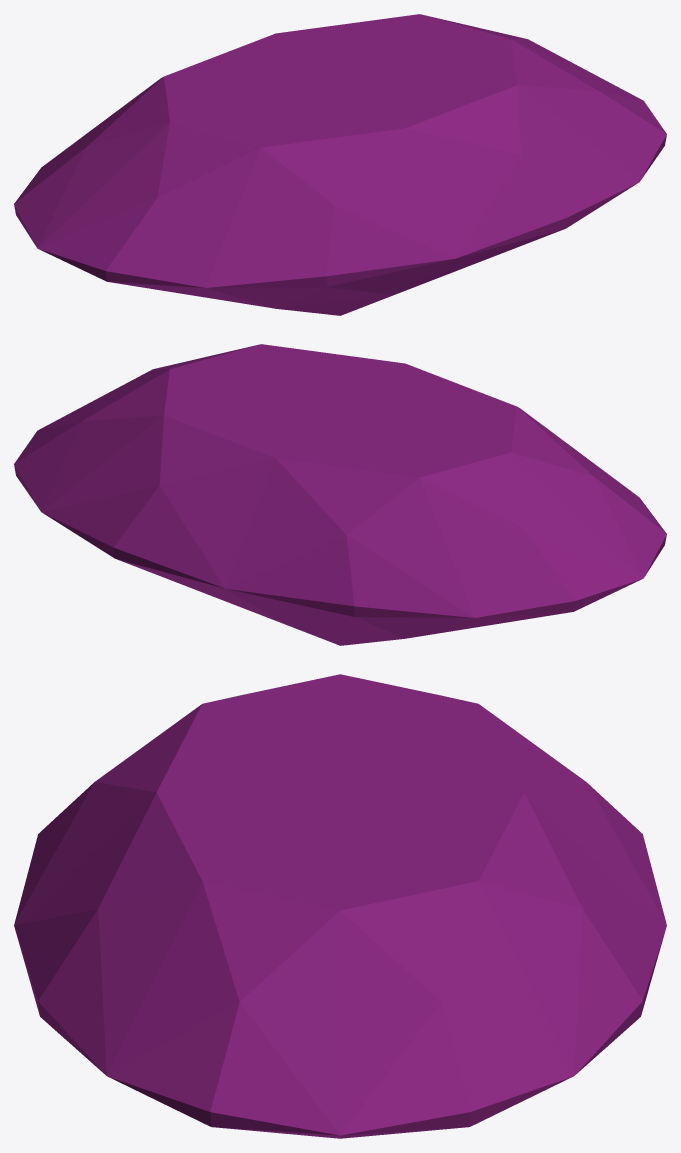
Rendered from Gem006.fbx.
The picture shows the model from 3 angles, top to bottom: view 1: azimuth 30°, elevation 25°; view 2: azimuth 150°, elevation 25°; view 3: azimuth 270°, elevation 25°; orthographic projection. The views are drawn at different scales.
Visible parts, largest first — view 1: Gem006; view 2: Gem006; view 3: Gem006.
Part boxes in pixels (x1,y1,x2,y2): Gem006: [14, 14, 666, 315]; Gem006: [14, 344, 666, 645]; Gem006: [14, 674, 666, 1138].
Bounding box in the file's own units: 248 × 91.83 × 163.
